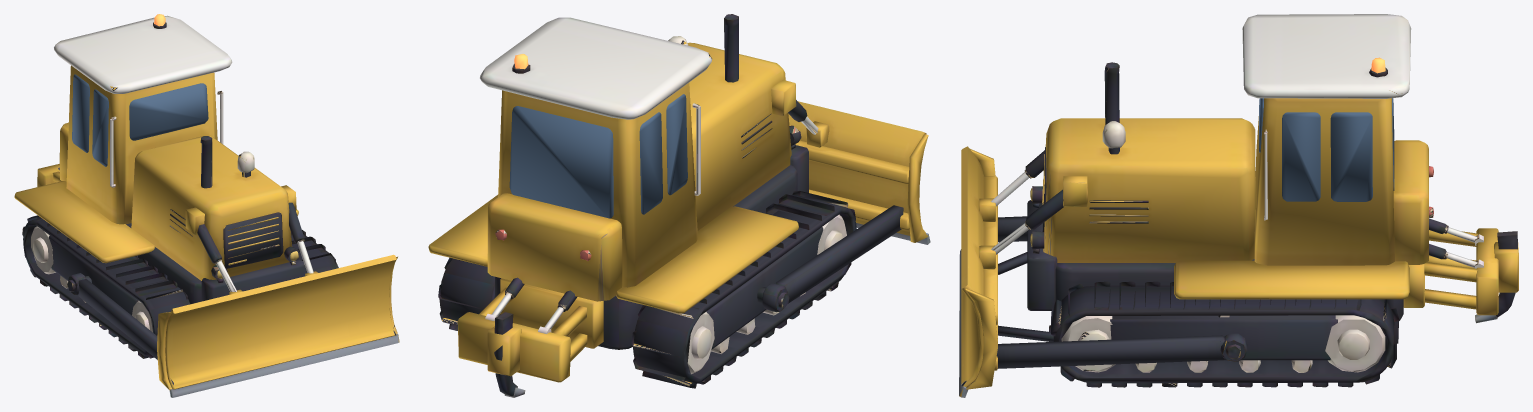
The model's file is bulldozer.glb.
3 renders of one model, left to right at view 1: azimuth 30°, elevation 25°; view 2: azimuth 150°, elevation 25°; view 3: azimuth 270°, elevation 25°, orthographic. The views are drawn at different scales.
Parts seen in each view (by area): view 1: bulldozer_body, bulldozer_blade, bulldozer_windows; view 2: bulldozer_body, bulldozer_blade, bulldozer_windows; view 3: bulldozer_body, bulldozer_blade, bulldozer_windows.
Part boxes in pixels (x1,y1,x2,y2): bulldozer_body: (14,15,338,358); bulldozer_blade: (68,241,399,397); bulldozer_windows: (72,74,208,166); bulldozer_body: (428,14,856,397); bulldozer_blade: (762,101,930,312); bulldozer_windows: (509,94,687,218); bulldozer_body: (1024,14,1518,387); bulldozer_blade: (959,146,1247,397); bulldozer_windows: (1259,98,1394,201).
Size of the model in its own units: 3.4 by 3.25 by 5.61.
Materials: 5 (2 with a texture image).
